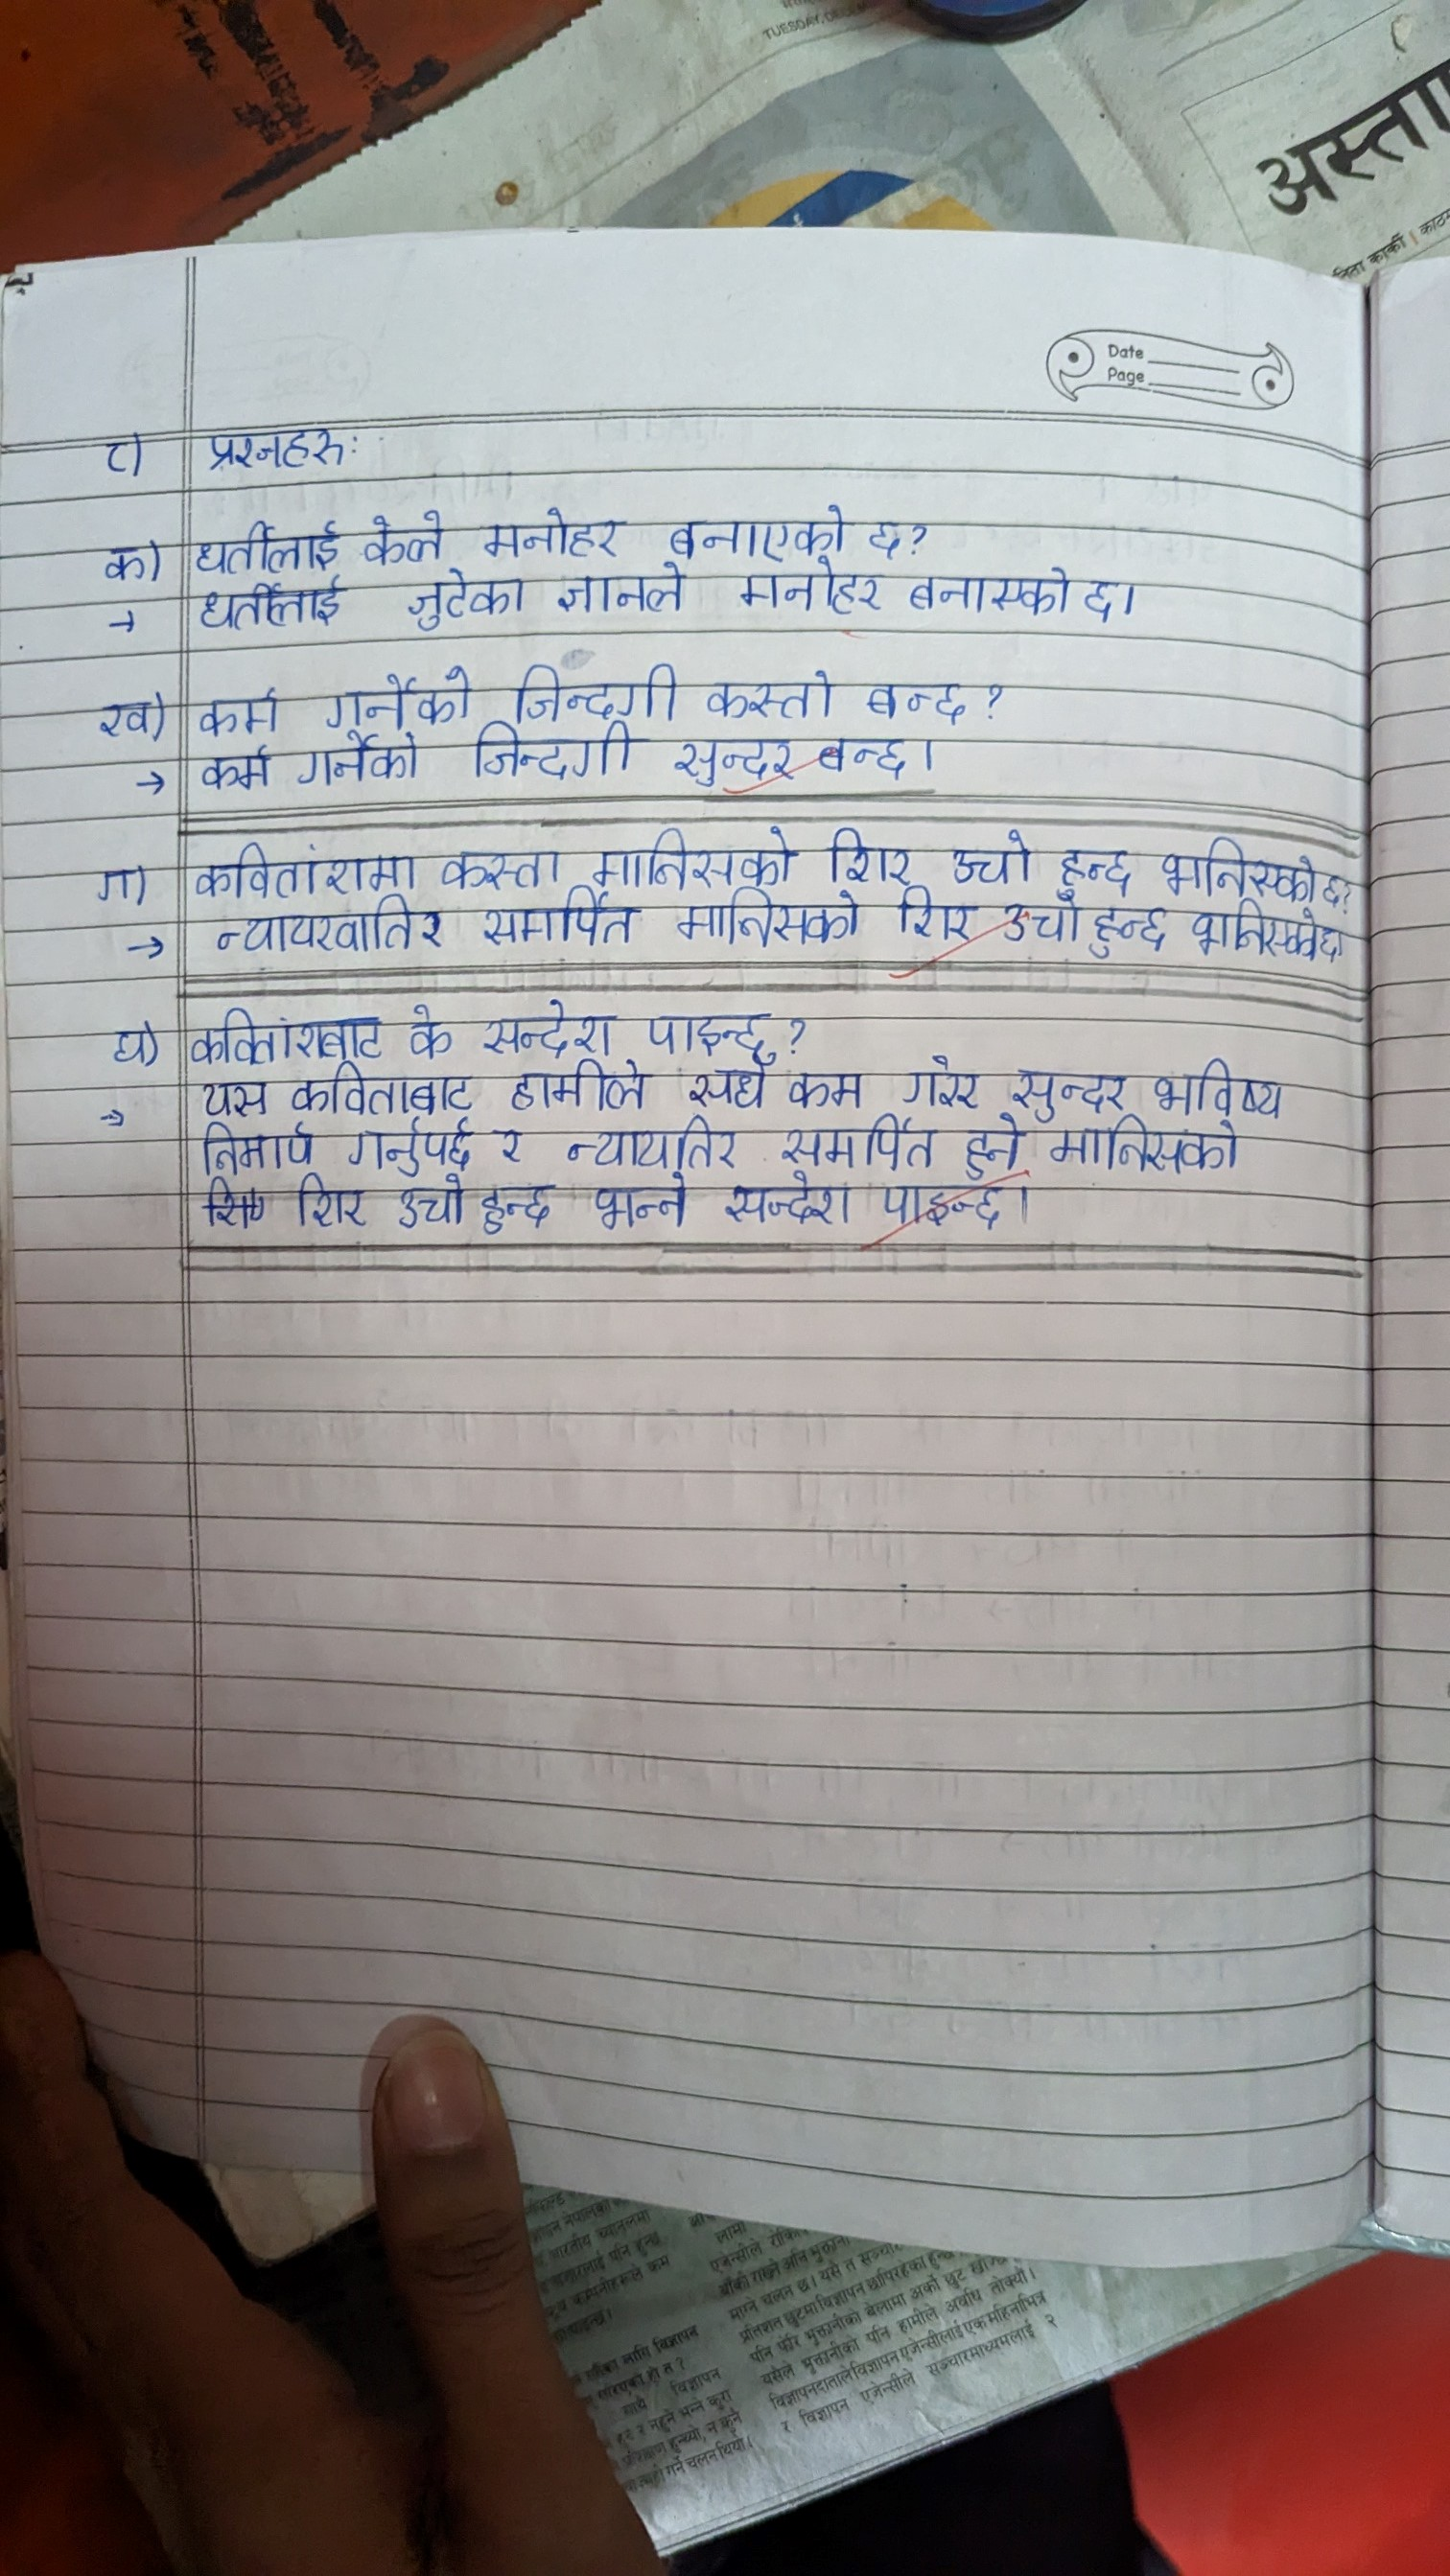text: (214, 901, 448, 957), (588, 824, 793, 888), (1053, 1120, 1239, 1184), (186, 842, 416, 892), (186, 1007, 386, 1063), (676, 892, 860, 952), (657, 501, 855, 556), (1156, 832, 1315, 899), (503, 658, 676, 718), (317, 658, 469, 725), (193, 414, 372, 471), (1153, 1047, 1292, 1118), (189, 508, 338, 573), (186, 577, 352, 635), (480, 892, 641, 952), (558, 1116, 740, 1169), (906, 566, 1071, 625), (476, 722, 644, 778), (740, 559, 883, 625), (775, 1115, 942, 1168), (292, 1065, 469, 1115), (699, 662, 845, 720), (558, 563, 692, 623), (405, 568, 531, 632), (476, 1000, 613, 1058), (474, 506, 623, 557), (722, 1173, 853, 1230), (503, 1062, 652, 1111), (1192, 902, 1314, 961), (878, 1180, 1007, 1235), (349, 1118, 474, 1173), (1006, 1060, 1128, 1115), (301, 732, 430, 784), (636, 1007, 783, 1051), (673, 736, 795, 789), (439, 839, 561, 892), (864, 671, 984, 724), (584, 1173, 692, 1231), (820, 821, 915, 885), (198, 1122, 320, 1169), (942, 823, 1029, 885), (901, 1049, 983, 1113), (995, 895, 1085, 952), (78, 685, 152, 752), (680, 1056, 774, 1109), (193, 681, 283, 736), (195, 743, 285, 798), (816, 734, 919, 782), (1092, 902, 1172, 961), (366, 513, 451, 563), (478, 1178, 554, 1233), (294, 1177, 372, 1230), (1053, 840, 1131, 892), (395, 1175, 469, 1228), (193, 1069, 271, 1118), (896, 886, 965, 941), (961, 1116, 1022, 1177), (94, 531, 152, 589), (791, 1063, 864, 1108), (81, 425, 140, 478), (103, 1005, 143, 1074), (405, 1001, 453, 1058), (1082, 564, 1119, 632), (92, 856, 138, 906), (866, 508, 908, 556), (489, 1123, 522, 1162), (1317, 924, 1342, 968), (1321, 867, 1344, 911)
